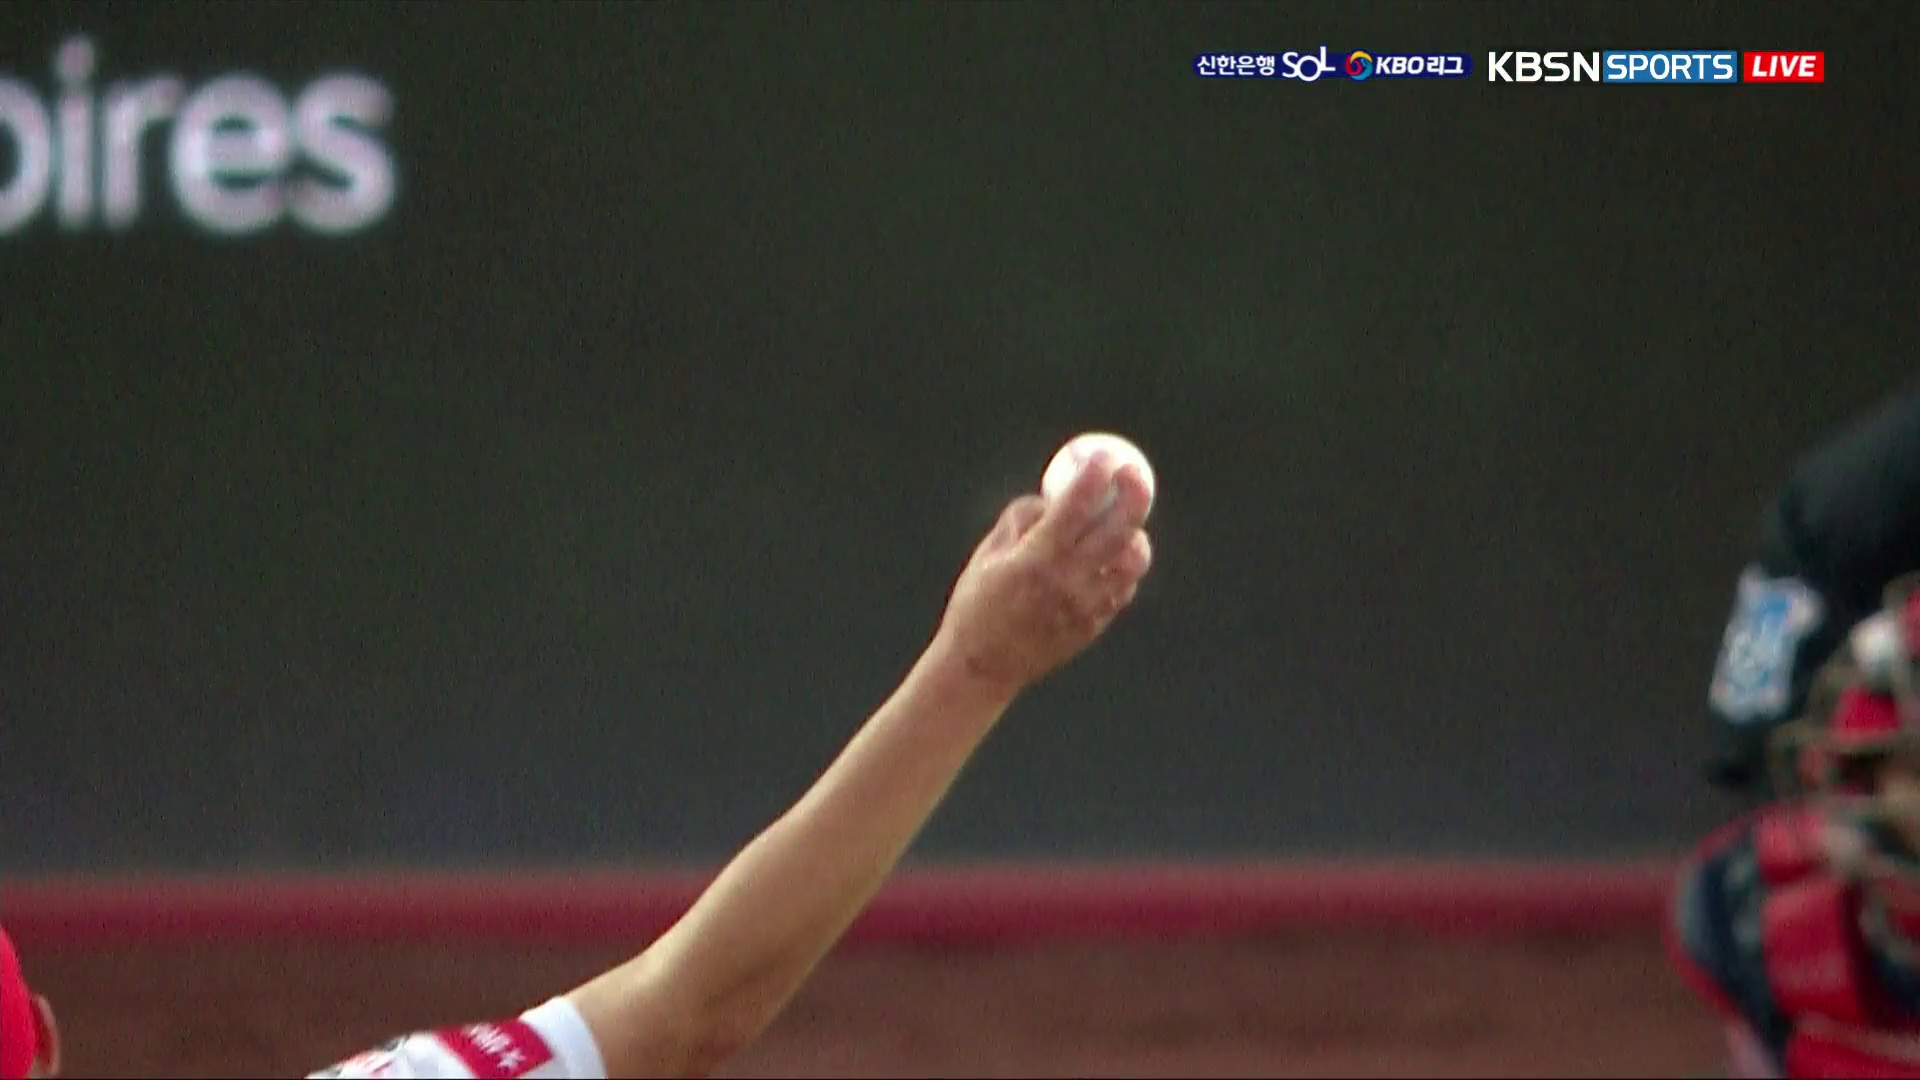zoomin_hand: (630, 425, 1171, 1080)
